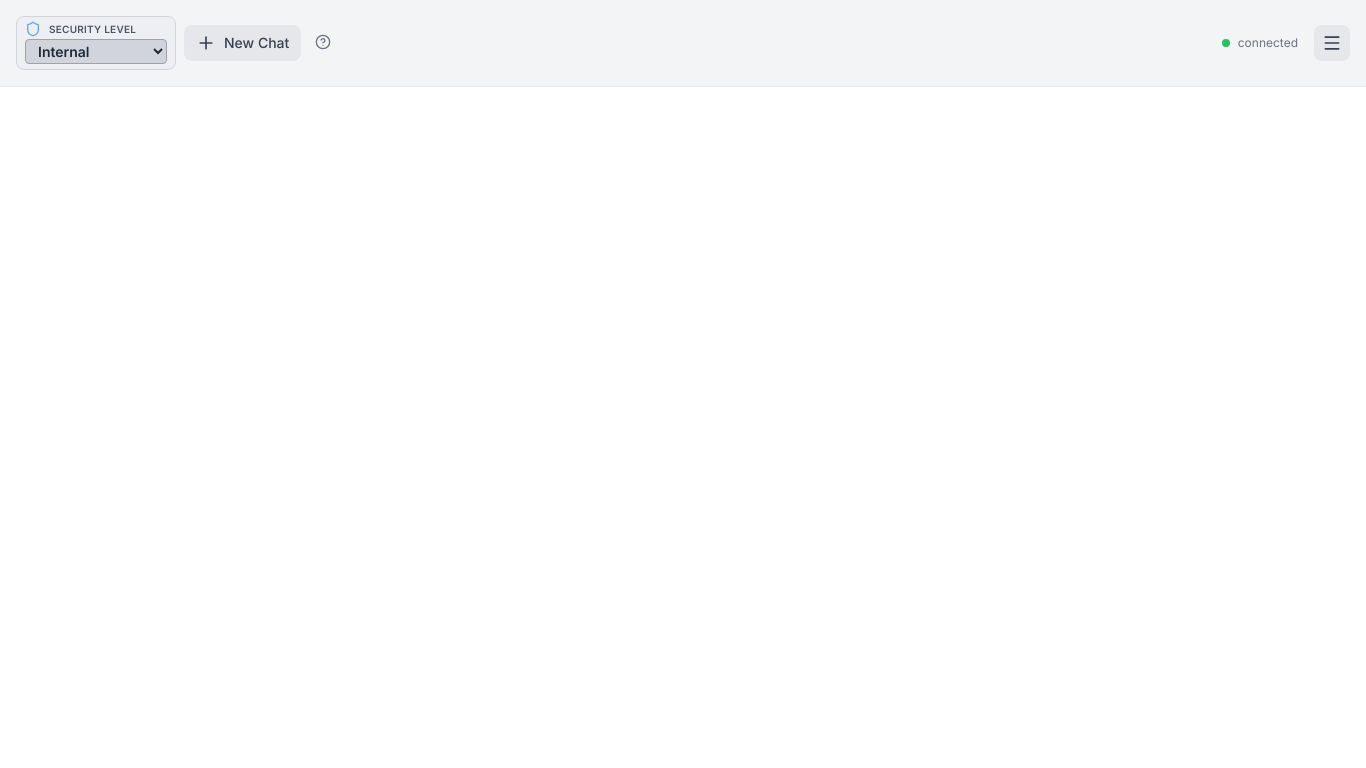
Test case: header compliance selector › offers "All Levels" when a level is not required
Click the button titled "Menu".
click(1332, 43)  # box [1314,25,1350,61]
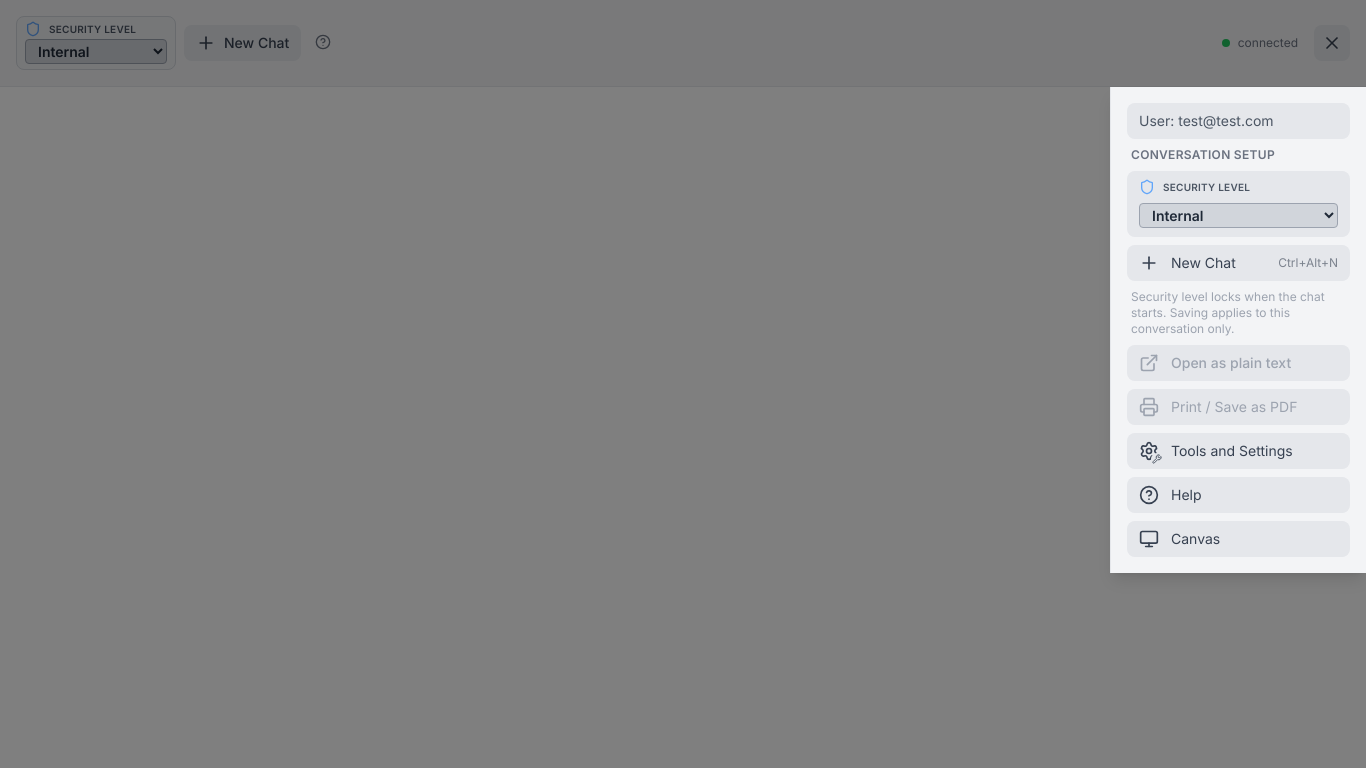
expect the number of dropdowns labelled "Security level" is 2: met, box [25,39,167,64]; [1139,203,1338,228]
